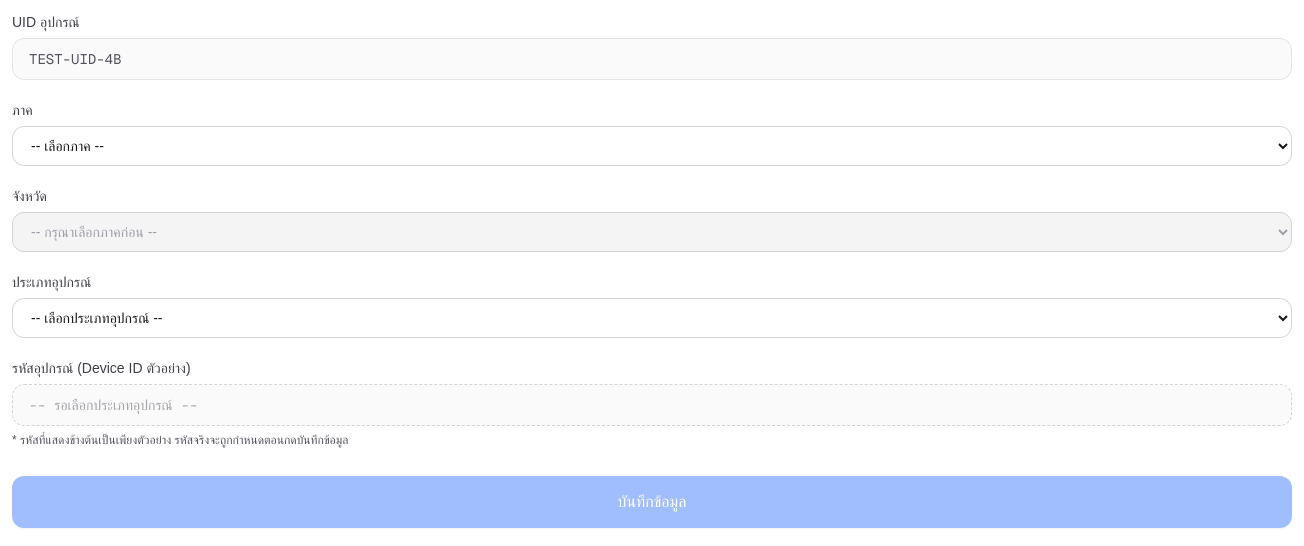
Scenario: Phase 4B: RegisterForm Unit & Component Tests › ปุ่มบันทึก disabled เมื่อขาดอย่างใดอย่างหนึ่ง และ enabled เมื่อครบ
Expected: the button with test id "btn-submit-registration" is disabled, 12,476 -> 1292,528
Select region only
Select "กลาง (22 จังหวัด)" in the dropdown with test id "reg-region" at (652, 146), box 12,126 -> 1292,166
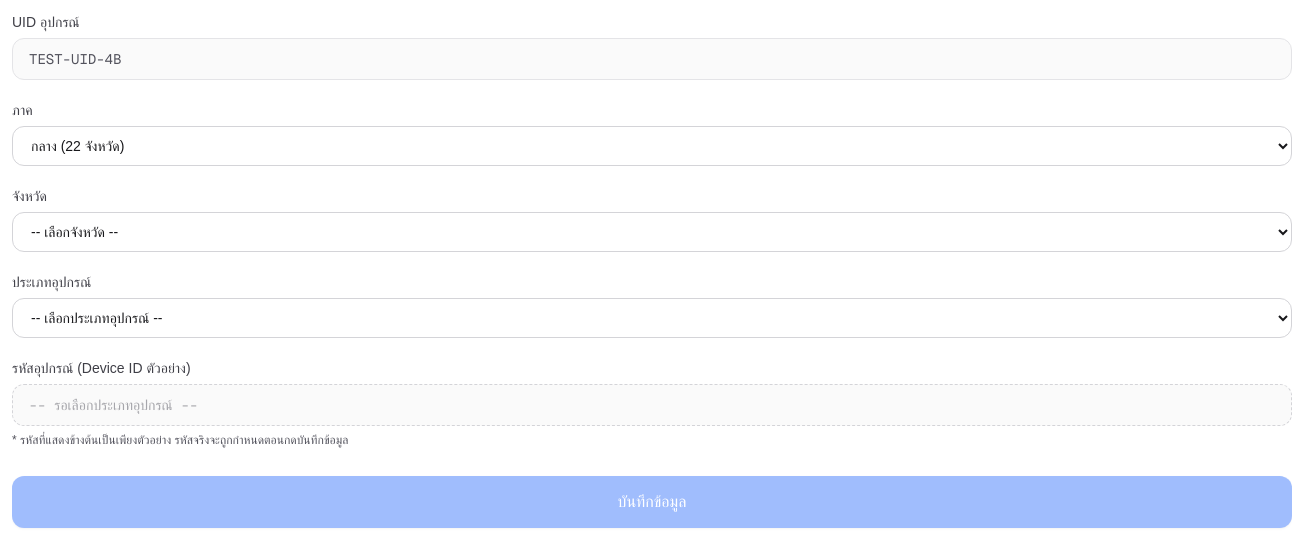
Expected: the button with test id "btn-submit-registration" is disabled, 12,476 -> 1292,528
Select province
Select "กรุงเทพมหานคร" in the dropdown with test id "reg-province" at (652, 232), box 12,212 -> 1292,252
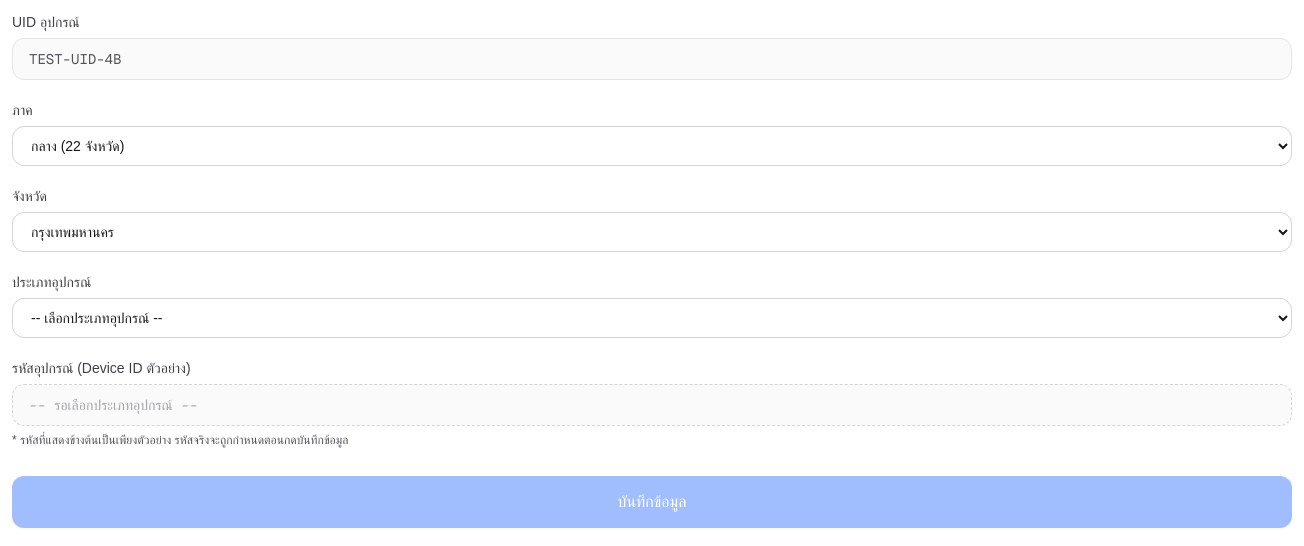
Expected: the button with test id "btn-submit-registration" is disabled, 12,476 -> 1292,528
Select "Kiosk (KSK)" in the dropdown with test id "reg-device-type" at (652, 318), box 12,298 -> 1292,338
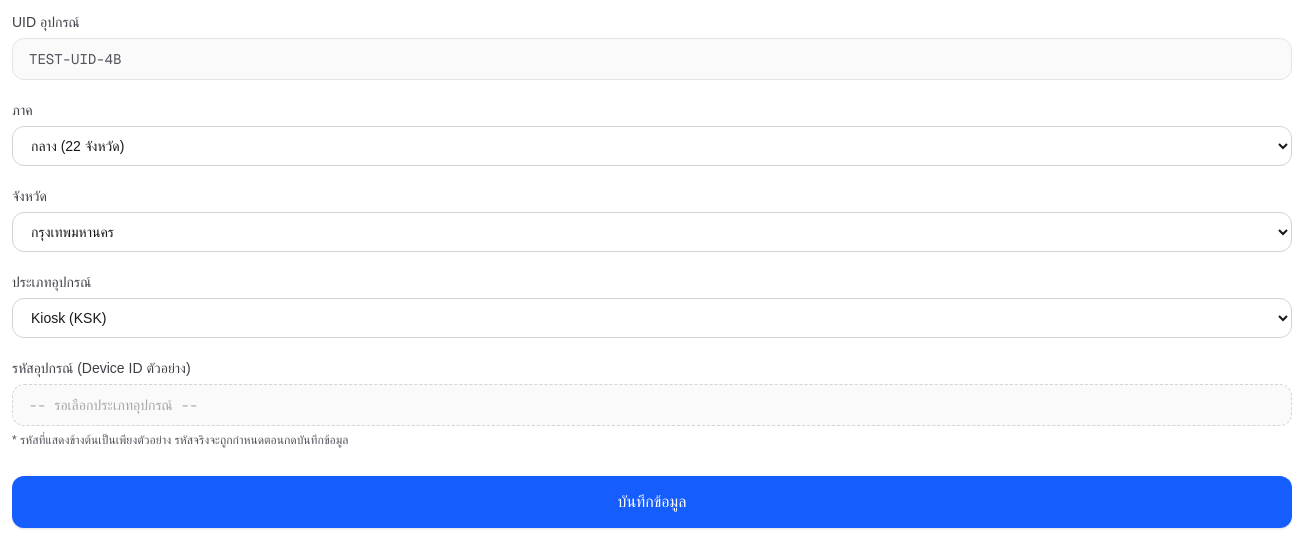
Now the button with test id "btn-submit-registration" is enabled, box 12,476 -> 1292,528
